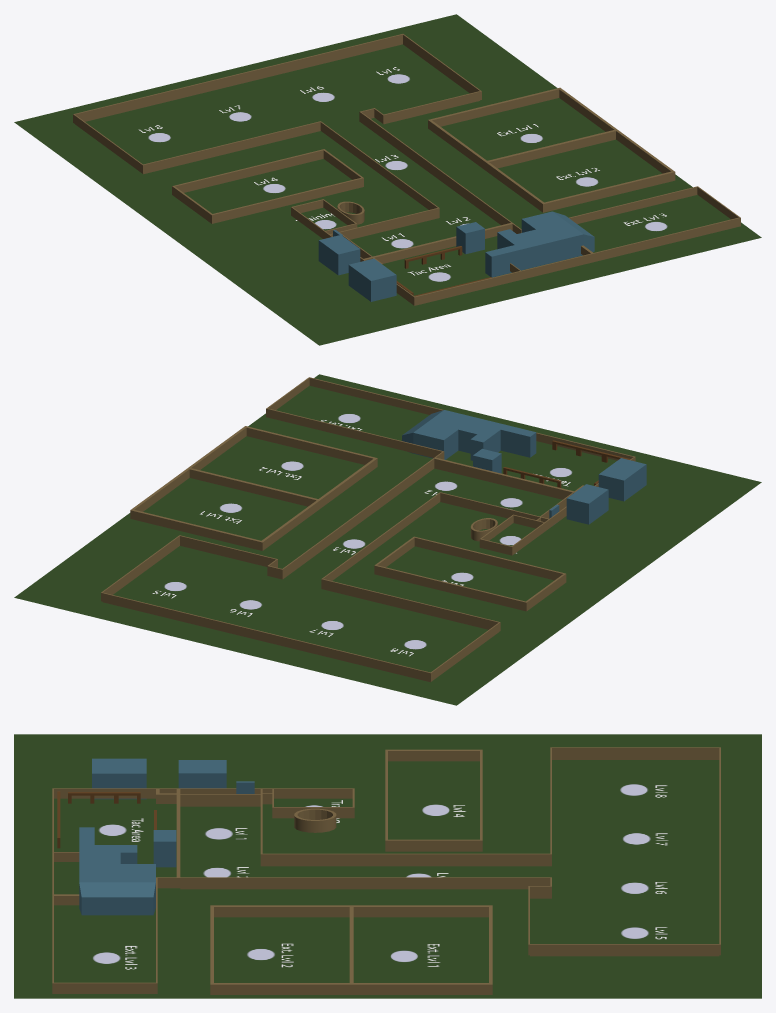
The model's file is Hettinger_PrototypeMainWorld_01.FBX.
3 views of the same model, one above another, from view 1: azimuth 30°, elevation 25°; view 2: azimuth 150°, elevation 25°; view 3: azimuth 270°, elevation 25° (orthographic). The views are drawn at different scales.
Visible parts, largest first — view 1: LP_Ground_Plane; view 2: LP_Ground_Plane; view 3: LP_Ground_Plane.
Part boxes in pixels (x1=…): LP_Ground_Plane: x1=14, y1=14, x2=761, y2=345; LP_Ground_Plane: x1=14, y1=374, x2=761, y2=705; LP_Ground_Plane: x1=14, y1=734, x2=761, y2=998.
Bounding box in the file's own units: 8839 × 399 × 10560.
